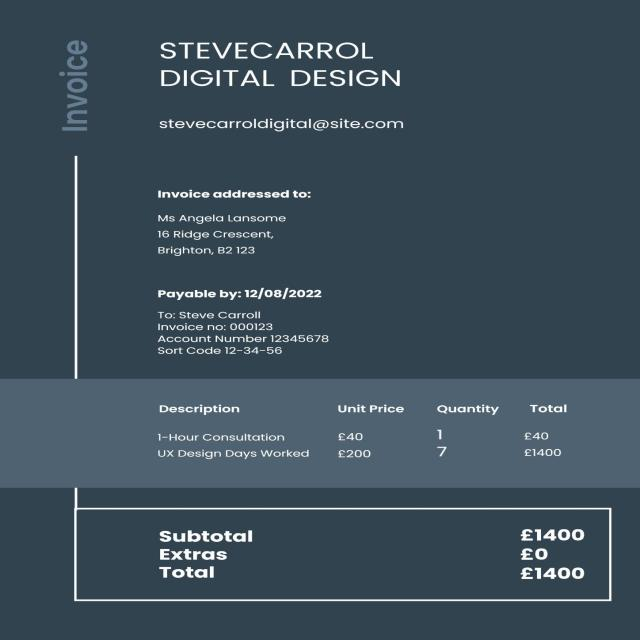paragraph: (142, 515, 606, 586), (148, 34, 417, 94), (144, 281, 342, 357), (141, 182, 318, 260), (143, 106, 423, 136), (42, 26, 109, 150)
table: (136, 391, 603, 471)
